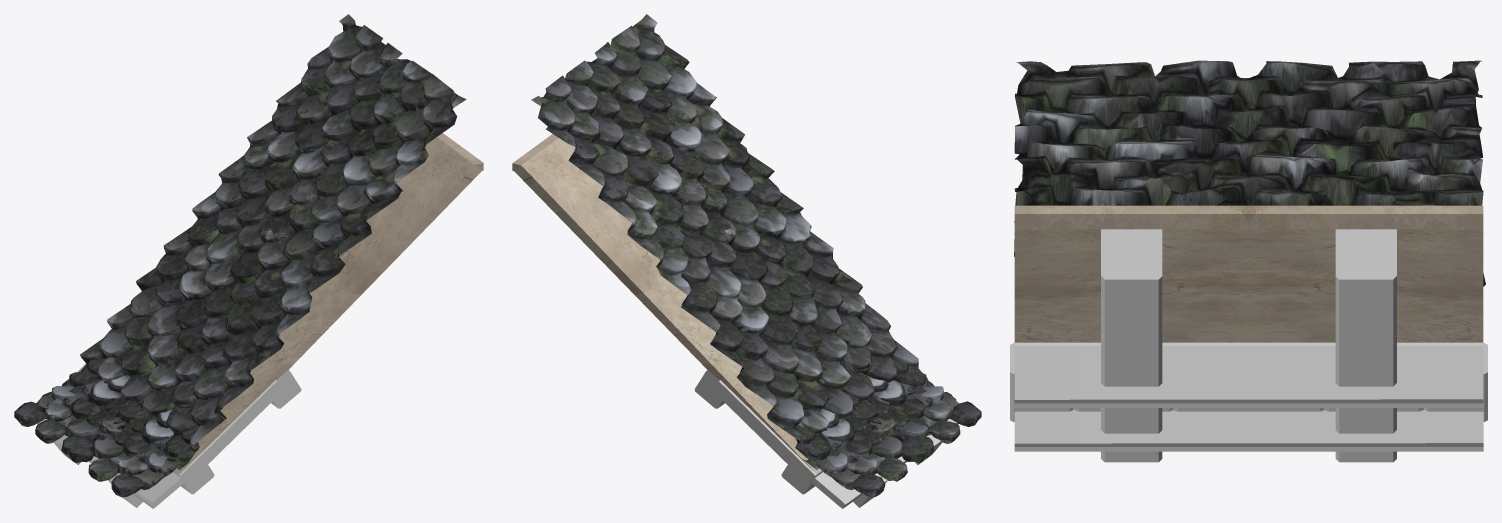
The model's file is SM_Roof_A_02.fbx.
3 views of the same model, side by side, from view 1: azimuth 30°, elevation 25°; view 2: azimuth 150°, elevation 25°; view 3: azimuth 270°, elevation 25° (orthographic). The views are drawn at different scales.
Parts seen in each view (by area): view 1: SM_Roof_A_02_LOD0; view 2: SM_Roof_A_02_LOD0; view 3: SM_Roof_A_02_LOD0.
Boxes of the visible parts, x1,y1,x2,y2 form: SM_Roof_A_02_LOD0: (14,14,483,508); SM_Roof_A_02_LOD0: (512,14,981,508); SM_Roof_A_02_LOD0: (1010,60,1487,462).
Size of the model in its own units: 367 by 204 by 330.
